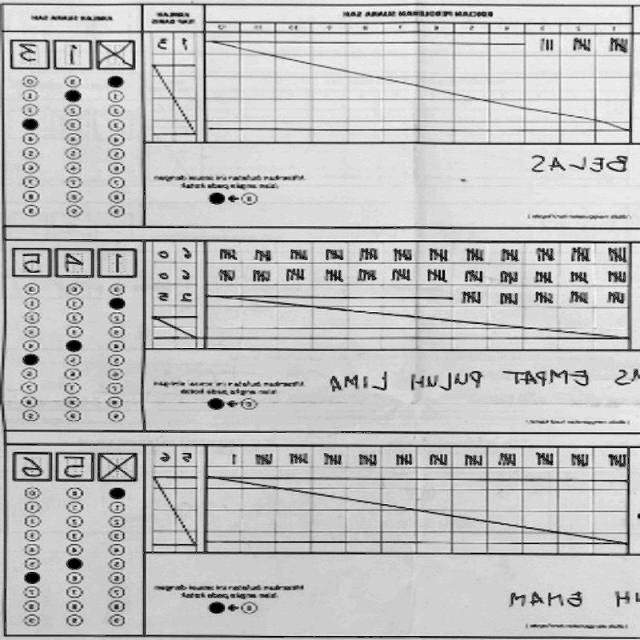Suara: (9, 241, 141, 281), (9, 447, 142, 483), (10, 36, 139, 70)
